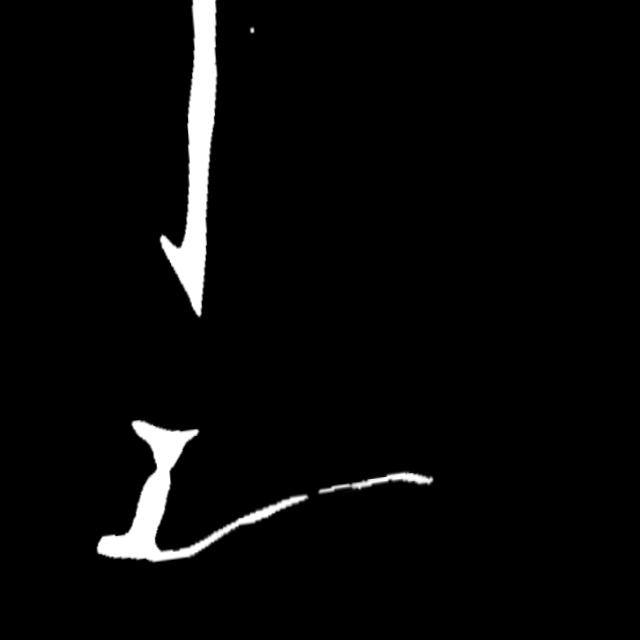sup: (296, 486, 324, 510)
